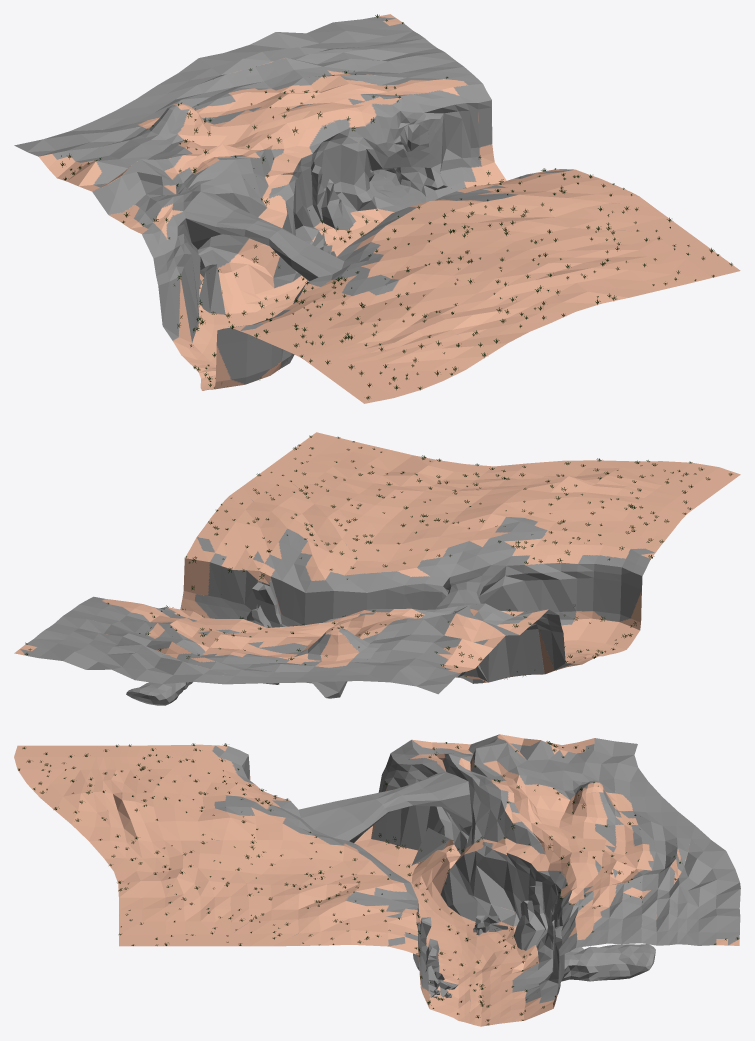
The model's file is ground.obj.
3 renders of one model, top to bottom at view 1: azimuth 30°, elevation 25°; view 2: azimuth 150°, elevation 25°; view 3: azimuth 270°, elevation 25°, orthographic. The views are drawn at different scales.
Visible parts, largest first — view 1: ground, grass; view 2: ground, grass; view 3: ground, grass.
Part boxes in pixels (x1,y1,x2,y2): ground: (14,14,740,403); grass: (60,14,732,399); ground: (14,432,740,705); grass: (24,435,732,683); ground: (14,734,740,1026); grass: (18,741,739,1025).
Bounding box in the file's own units: 34.03 × 10.56 × 53.53.
3 materials, 1 textured.
